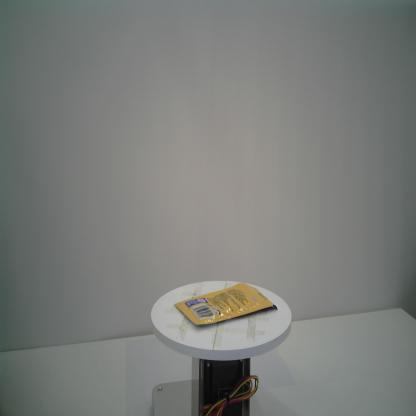Seasoner: (172, 280, 278, 329)
